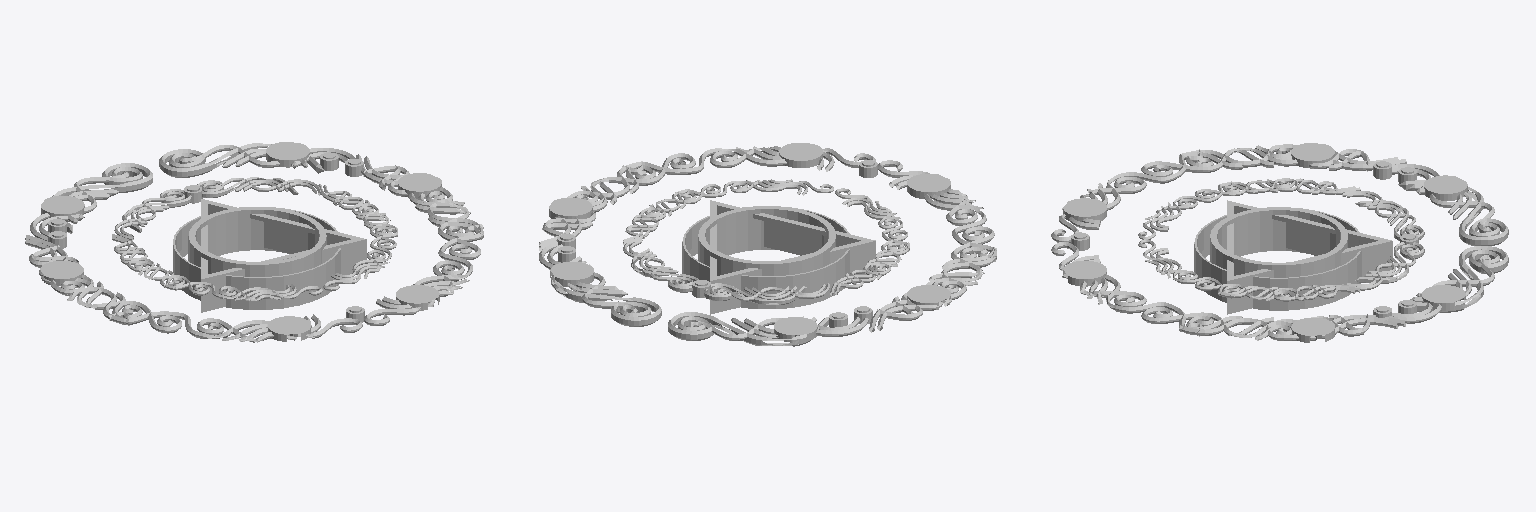
File: are re detail.obj
The picture shows the model from 3 angles: view 1: azimuth 30°, elevation 25°; view 2: azimuth 150°, elevation 25°; view 3: azimuth 270°, elevation 25°; orthographic projection.
Visible parts, largest first — view 1: Cylinder.011_Cylinder.022, Cylinder.005_Cylinder.015; view 2: Cylinder.011_Cylinder.022, Cylinder.005_Cylinder.015; view 3: Cylinder.011_Cylinder.022, Cylinder.005_Cylinder.015.
Boxes of the visible parts, x1,y1,x2,y2 form: Cylinder.011_Cylinder.022: [25, 142, 483, 342]; Cylinder.005_Cylinder.015: [188, 199, 366, 312]; Cylinder.011_Cylinder.022: [539, 143, 996, 346]; Cylinder.005_Cylinder.015: [698, 200, 875, 314]; Cylinder.011_Cylinder.022: [1051, 143, 1508, 342]; Cylinder.005_Cylinder.015: [1210, 200, 1392, 314].
Bounding box in the file's own units: 26.63 × 2.63 × 26.42.